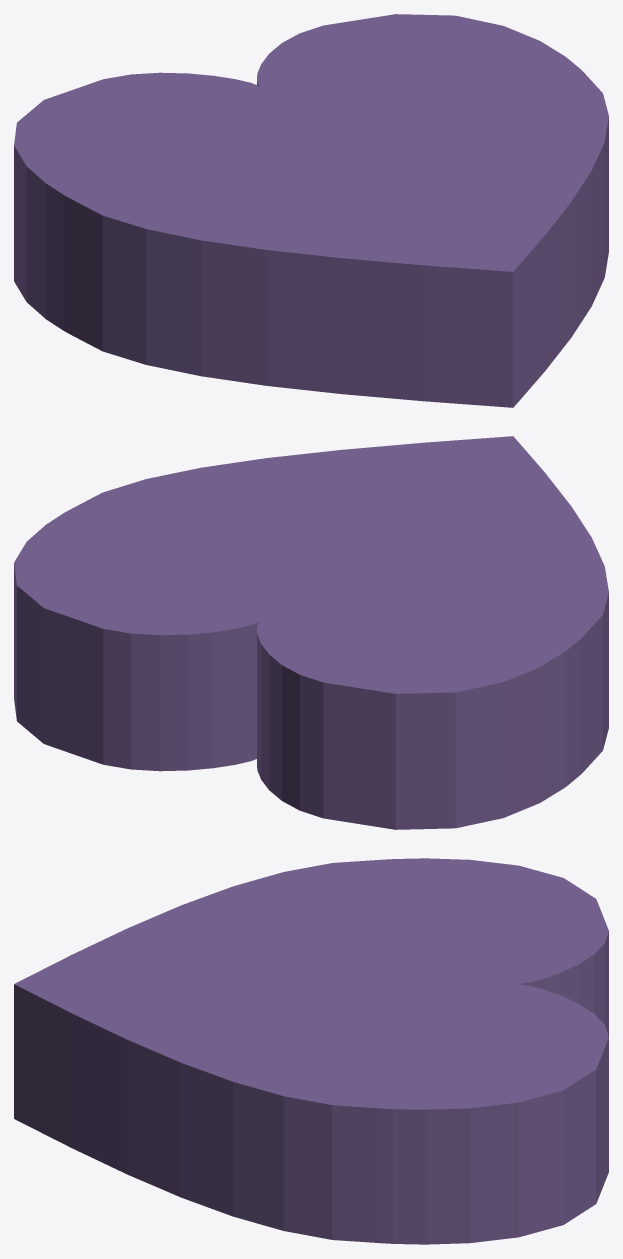
File: UVU.glb
3 renders of one model, top to bottom at view 1: azimuth 30°, elevation 25°; view 2: azimuth 150°, elevation 25°; view 3: azimuth 270°, elevation 25°, orthographic.
Visible parts, largest first — view 1: Mesh_Mesh_head_geo.001_lambert2SG.001; view 2: Mesh_Mesh_head_geo.001_lambert2SG.001; view 3: Mesh_Mesh_head_geo.001_lambert2SG.001.
Boxes of the visible parts, x1,y1,x2,y2 form: Mesh_Mesh_head_geo.001_lambert2SG.001: [14, 14, 608, 407]; Mesh_Mesh_head_geo.001_lambert2SG.001: [14, 436, 608, 829]; Mesh_Mesh_head_geo.001_lambert2SG.001: [14, 858, 608, 1244].
Bounding box in the file's own units: 0.02 × 0.005 × 0.02.
